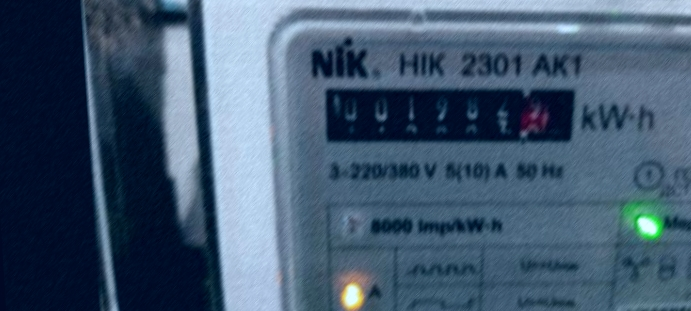0: (373, 94, 392, 124), (343, 93, 361, 123)
1: (405, 92, 419, 122)
2: (495, 89, 515, 119)
8: (465, 92, 483, 121)
9: (526, 93, 548, 122), (434, 93, 451, 123)
screen: (308, 58, 594, 172)
